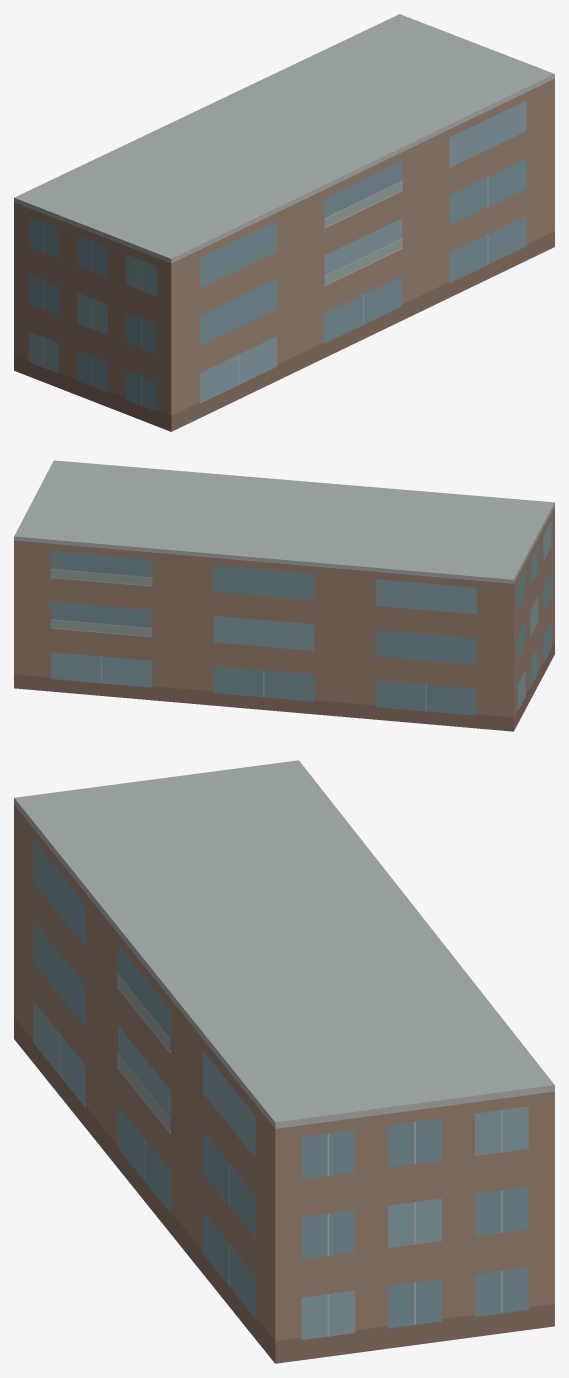
Rendered from survey-upis-32582575.glb.
The picture shows the model from 3 angles, top to bottom: view 1: azimuth 30°, elevation 25°; view 2: azimuth 150°, elevation 25°; view 3: azimuth 270°, elevation 25°; orthographic projection. The views are drawn at different scales.
Visible parts, largest first — view 1: survey-upis-32582575.tmp; view 2: survey-upis-32582575.tmp; view 3: survey-upis-32582575.tmp.
Boxes of the visible parts, <box> form: survey-upis-32582575.tmp: <box>14,14,554,431</box>; survey-upis-32582575.tmp: <box>14,460,554,731</box>; survey-upis-32582575.tmp: <box>14,760,554,1363</box>.
Bounding box in the file's own units: 29.48 × 9.15 × 18.6.
